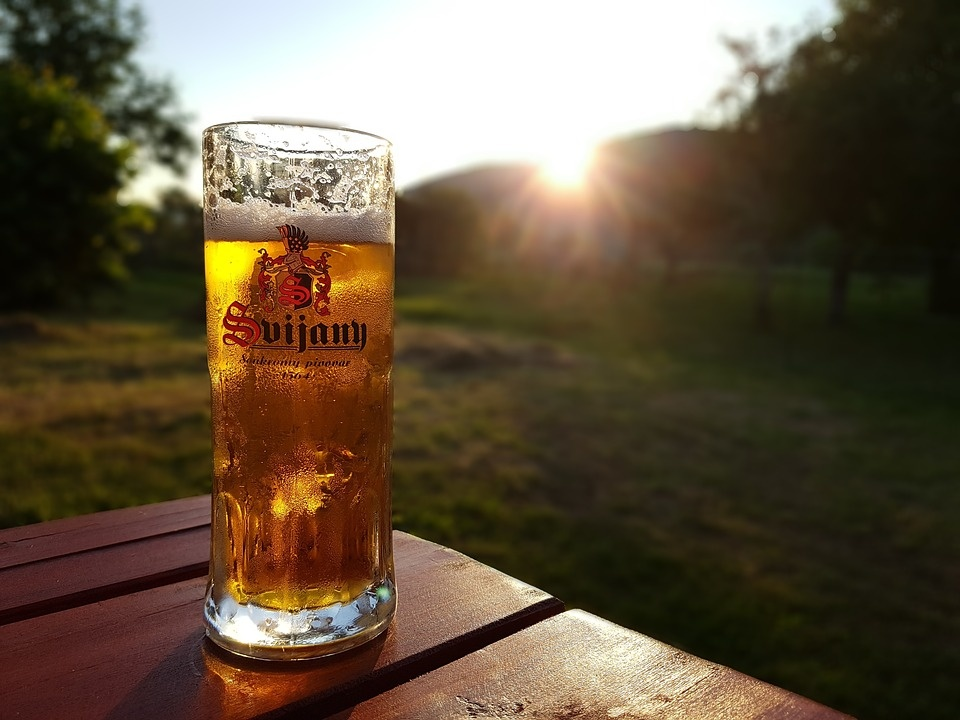glassBeer: (201, 124, 401, 656)
